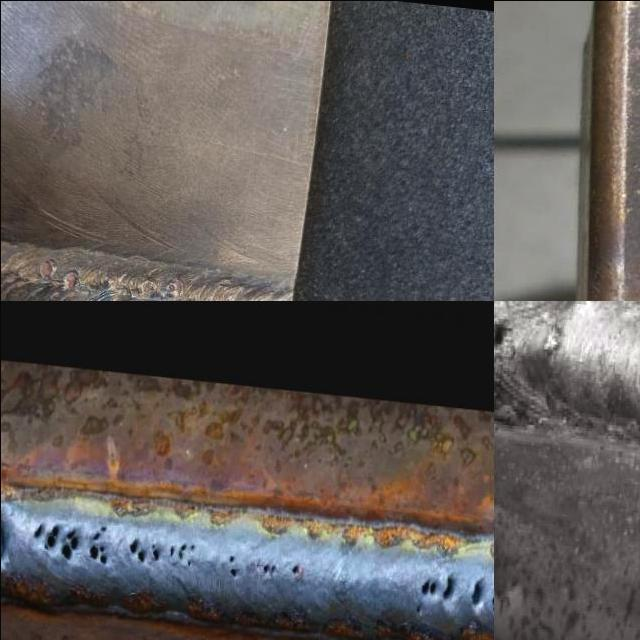defect: (412, 571, 458, 615), (493, 305, 515, 363), (86, 521, 109, 568), (124, 537, 161, 564), (168, 540, 197, 567), (61, 527, 81, 564), (43, 521, 59, 552), (164, 274, 181, 299), (139, 275, 156, 300), (470, 576, 483, 608), (226, 552, 242, 577), (37, 258, 54, 280), (62, 268, 79, 290), (260, 560, 276, 577), (32, 521, 43, 539), (290, 562, 301, 576), (102, 273, 110, 285)
